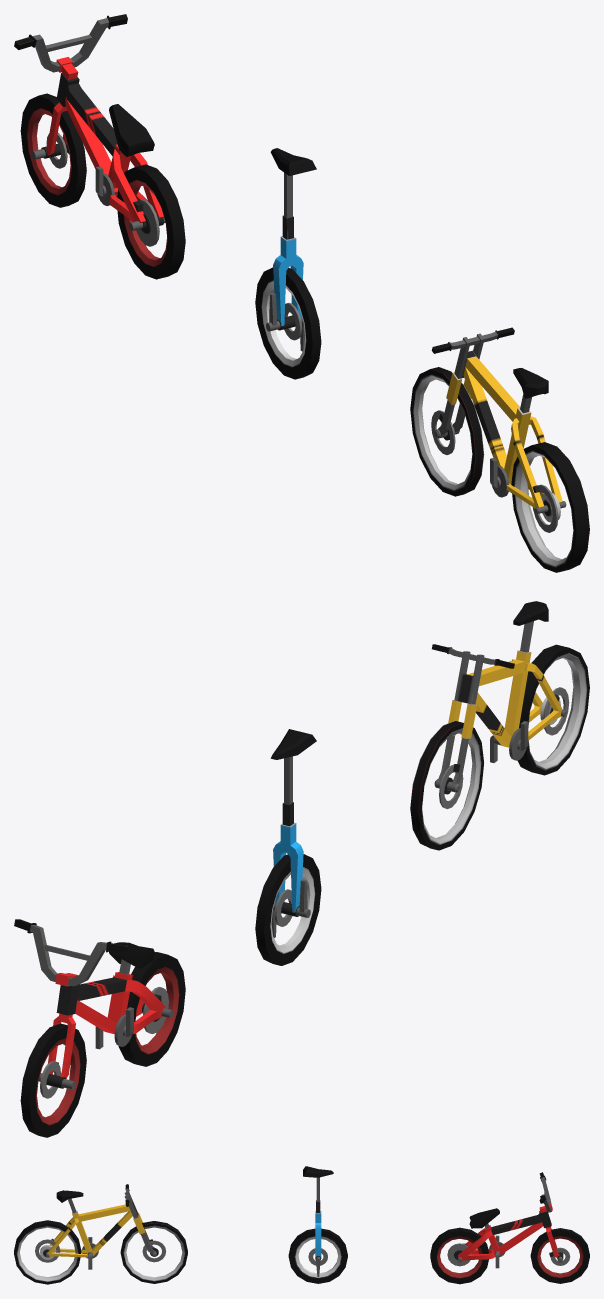
File: Free Low Poly Bike Models.fbx
3 views of the same model, one above another, from view 1: azimuth 30°, elevation 25°; view 2: azimuth 150°, elevation 25°; view 3: azimuth 270°, elevation 25° (orthographic). The views are drawn at different scales.
Visible parts, largest first — view 1: BMX Body, Mountain Bike Body, Mountain Bike Rear Wheel, BMX Rear Wheel, Unicycle Wheel, BMX Front Wheel, Mountain Bike Front Wheel, Unicycle Frame and Seat, BMX Handle, Mountain Bike Handle; view 2: Unicycle Wheel, BMX Front Wheel, BMX Body, Mountain Bike Rear Wheel, Mountain Bike Body, Mountain Bike Front Wheel, BMX Rear Wheel, Unicycle Frame and Seat, BMX Handle, Mountain Bike Handle, Mountain Bike Pedals, BMX Pedals; view 3: BMX Body, BMX Rear Wheel, Mountain Bike Body, Unicycle Wheel, BMX Front Wheel, Mountain Bike Rear Wheel, Mountain Bike Front Wheel, Unicycle Frame and Seat, BMX Handle, Mountain Bike Handle, Mountain Bike Pedals.
Part boxes in pixels (left/top/right/bottom): BMX Body: left=56, top=73, right=163, bottom=222; Mountain Bike Body: left=463, top=356, right=562, bottom=508; Mountain Bike Rear Wheel: left=511, top=442, right=589, bottom=572; BMX Rear Wheel: left=117, top=164, right=185, bottom=279; Unicycle Wheel: left=255, top=267, right=321, bottom=379; BMX Front Wheel: left=20, top=93, right=86, bottom=207; Mountain Bike Front Wheel: left=410, top=367, right=484, bottom=496; Unicycle Frame and Seat: left=270, top=148, right=316, bottom=326; BMX Handle: left=14, top=14, right=127, bottom=154; Mountain Bike Handle: left=431, top=327, right=514, bottom=435; Unicycle Wheel: left=255, top=854, right=321, bottom=965; BMX Front Wheel: left=20, top=1023, right=86, bottom=1137; BMX Body: left=56, top=942, right=165, bottom=1034; Mountain Bike Rear Wheel: left=517, top=644, right=589, bottom=775; Mountain Bike Body: left=467, top=601, right=562, bottom=747; Mountain Bike Front Wheel: left=410, top=721, right=483, bottom=850; BMX Rear Wheel: left=118, top=952, right=185, bottom=1066; Unicycle Frame and Seat: left=270, top=729, right=316, bottom=912; BMX Handle: left=14, top=919, right=127, bottom=1078; Mountain Bike Handle: left=432, top=644, right=514, bottom=785; Mountain Bike Pedals: left=490, top=721, right=528, bottom=762; BMX Pedals: left=95, top=1007, right=133, bottom=1049; BMX Body: left=457, top=1208, right=551, bottom=1260; BMX Rear Wheel: left=430, top=1227, right=489, bottom=1284; Mountain Bike Body: left=47, top=1190, right=132, bottom=1257; Unicycle Wheel: left=288, top=1228, right=347, bottom=1283; BMX Front Wheel: left=530, top=1228, right=589, bottom=1283; Mountain Bike Rear Wheel: left=14, top=1220, right=81, bottom=1284; Mountain Bike Front Wheel: left=120, top=1221, right=187, bottom=1283; Unicycle Frame and Seat: left=303, top=1166, right=333, bottom=1257; BMX Handle: left=539, top=1172, right=559, bottom=1257; Mountain Bike Handle: left=124, top=1184, right=155, bottom=1254; Mountain Bike Pedals: left=82, top=1237, right=98, bottom=1269.
Bounding box in the file's own units: 136 × 259 × 1180.
